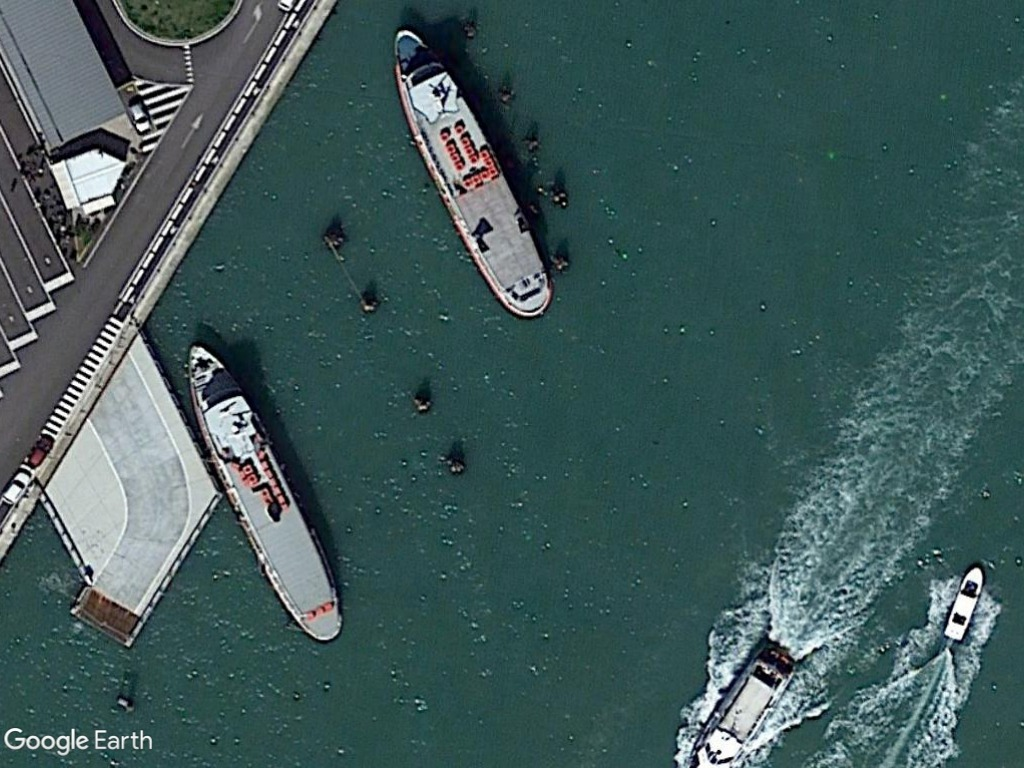boat: (182, 336, 349, 647), (391, 23, 559, 321), (938, 564, 987, 645)
